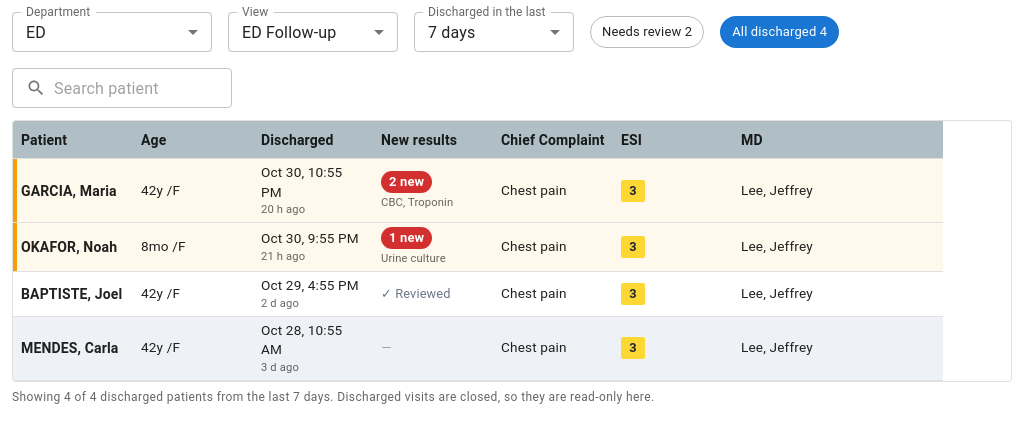
it: search narrows by name
This screenshot has width=1024, height=421.
expect the row with test id "fu-row-1" is shown: met, box x1=13 y1=159 x2=943 y2=223
Type "okaf" into the field with test id "fu-search".
click(143, 88); type("okaf")  # box x1=54 y1=68 x2=232 y2=108
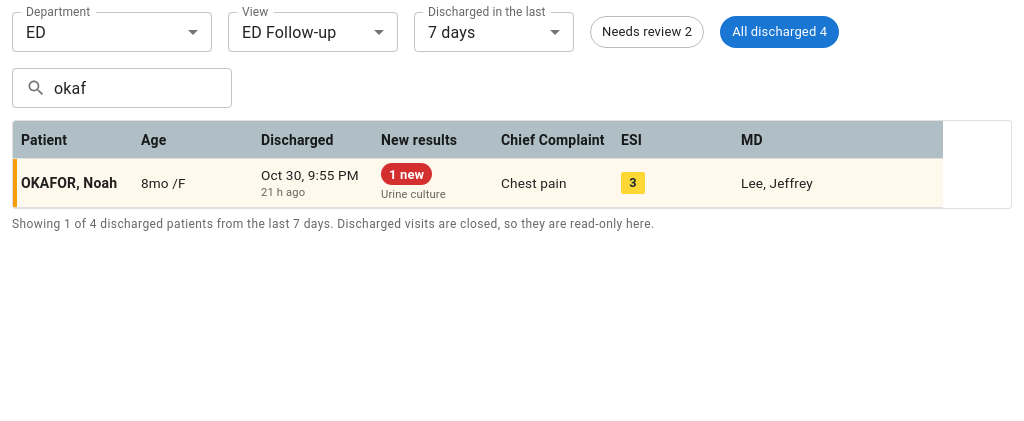
Replace the text in the field with test id "fu-search" with "zzz" at [143, 88], box x1=54 y1=68 x2=232 y2=108
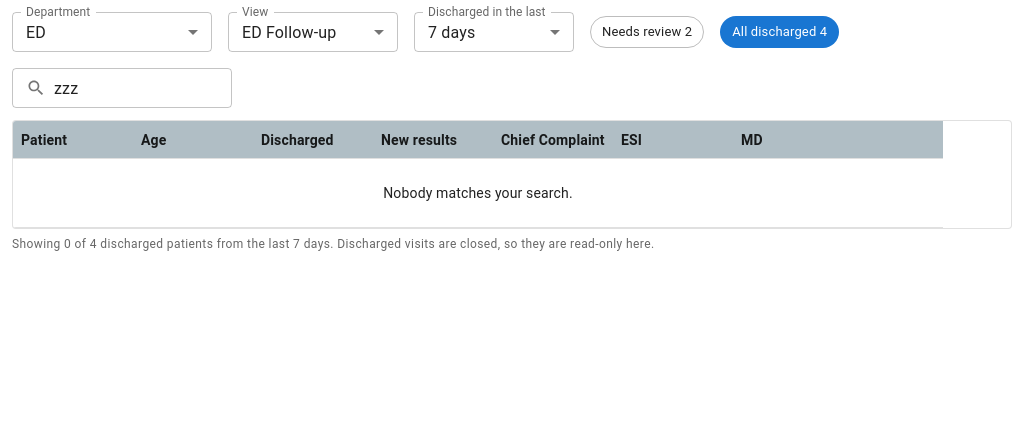
expect the cell with test id "fu-empty" reads "Nobody matches your search.": met, box x1=383 y1=185 x2=573 y2=201
